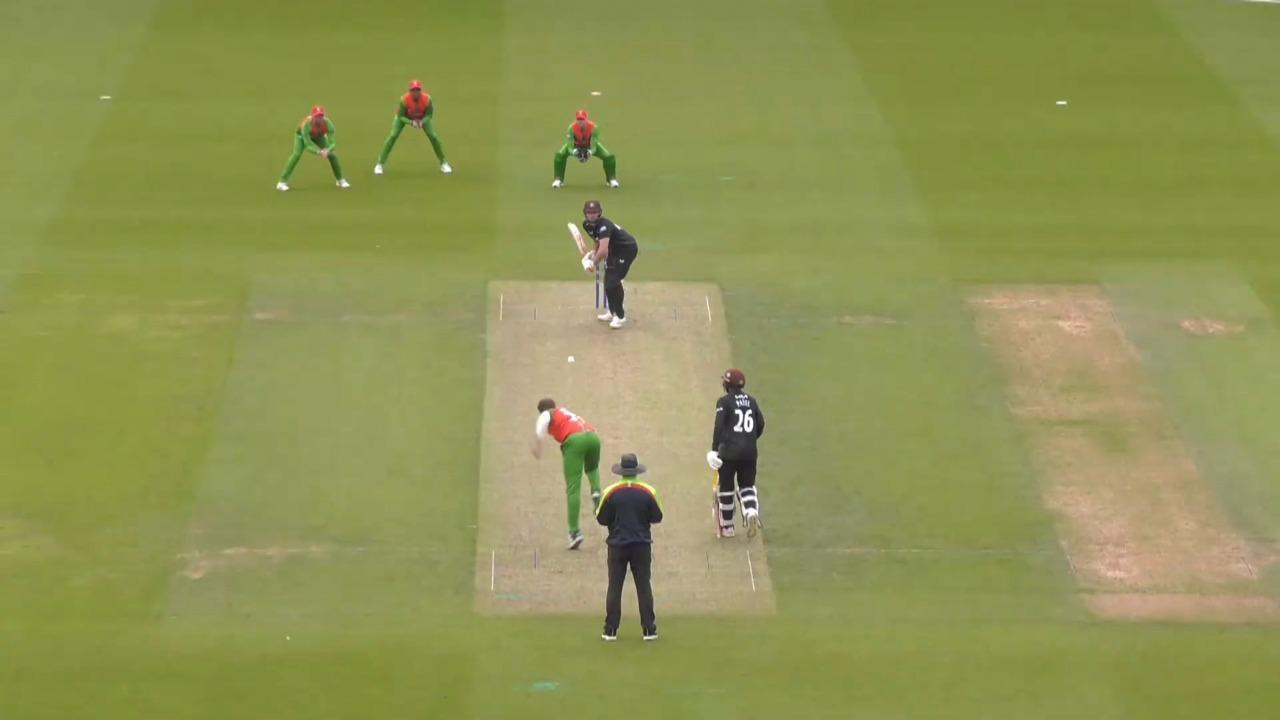sports ball: (568, 356, 574, 362)
